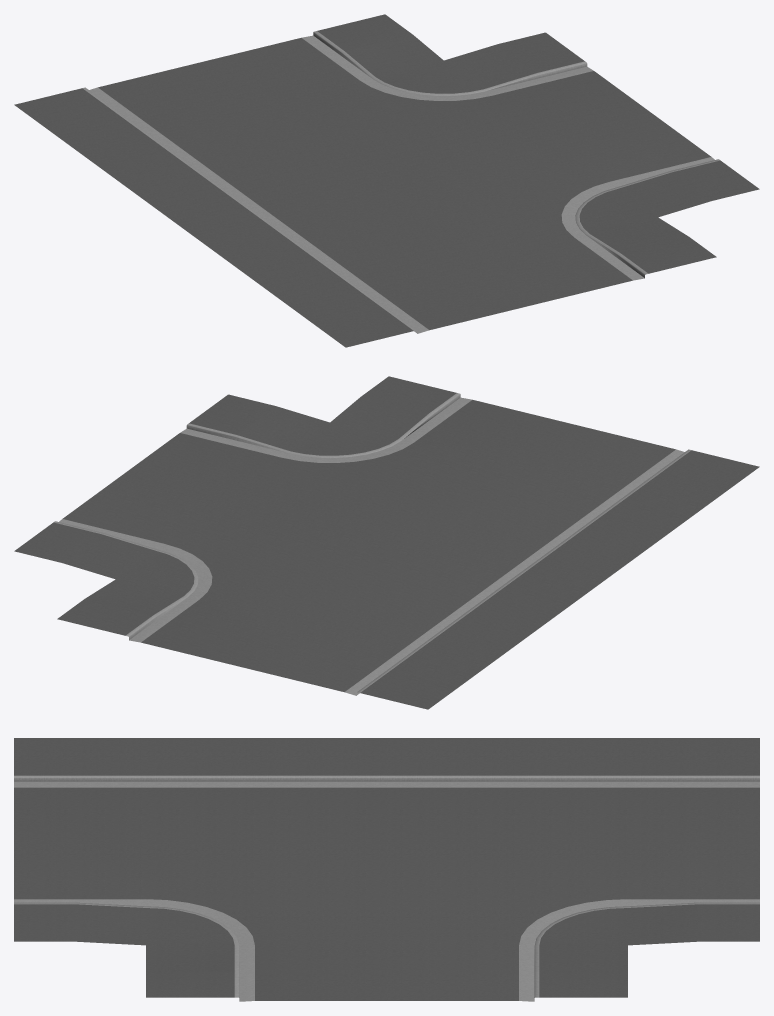
Rendered from 3Forked.glb.
3 views of the same model, one above another, from view 1: azimuth 30°, elevation 25°; view 2: azimuth 150°, elevation 25°; view 3: azimuth 270°, elevation 25° (orthographic). The views are drawn at different scales.
Visible parts, largest first — view 1: 3Forked; view 2: 3Forked; view 3: 3Forked.
Part boxes in pixels (x1=…): 3Forked: x1=14, y1=14, x2=759, y2=347; 3Forked: x1=14, y1=376, x2=759, y2=709; 3Forked: x1=14, y1=738, x2=759, y2=1001.
Size of the model in its own units: 19.75 by 0.15 by 24.
Materials: 5 (5 with a texture image).
